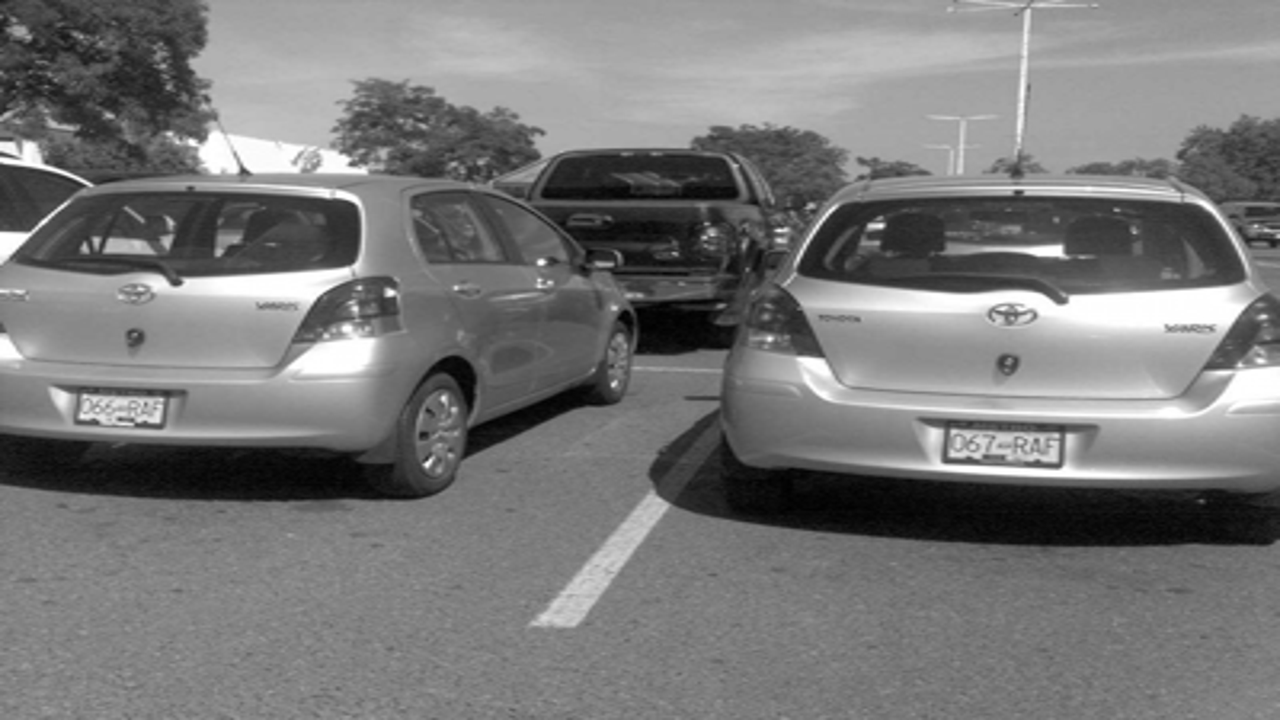license: (942, 415, 1068, 481), (71, 380, 175, 442)
